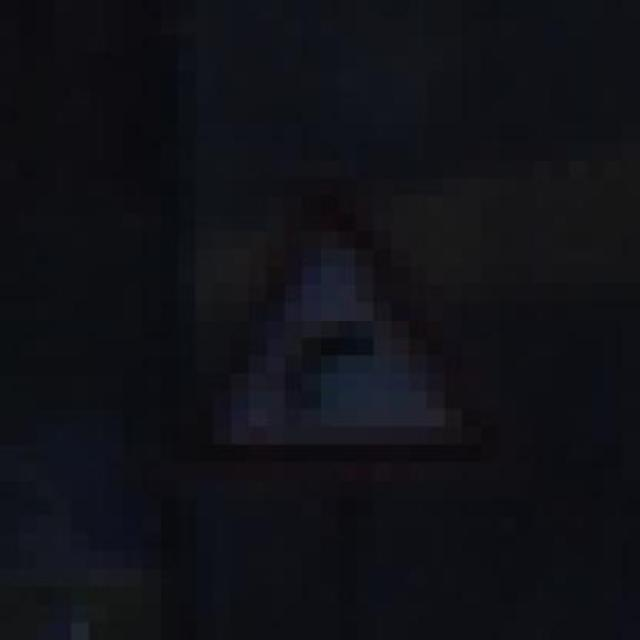Dangerous Rright Curve Ahead: (160, 195, 498, 480)
